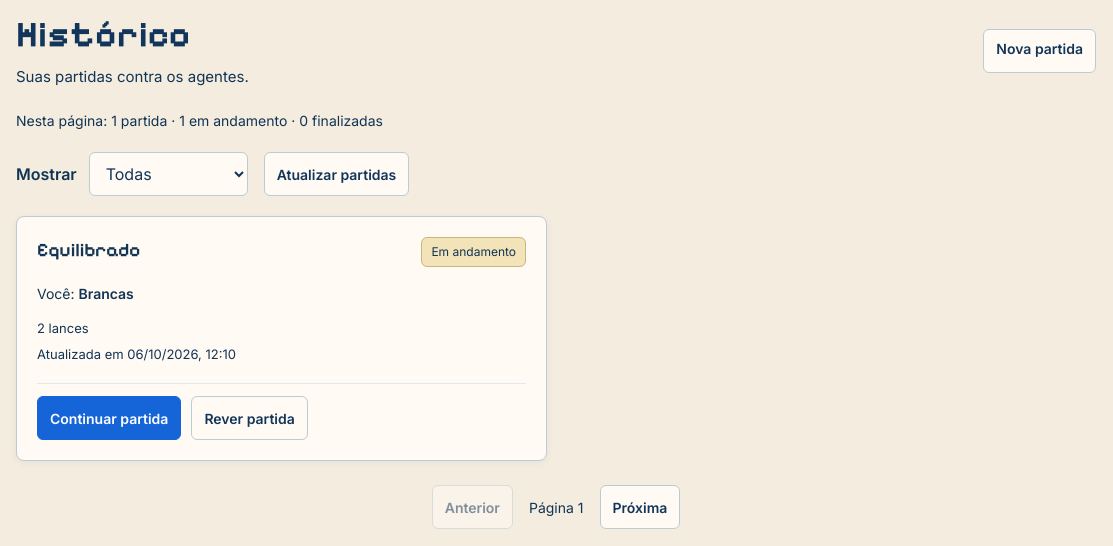
paginação substitui a página, mantém filtro e remove duplicatas sem reordenar
Expected: the heading "Equilibrado" is shown, top-left (37, 239), bottom-right (140, 261)
Select "Em andamento" in the dropdown at (168, 174), box top-left (89, 152), bottom-right (248, 196)
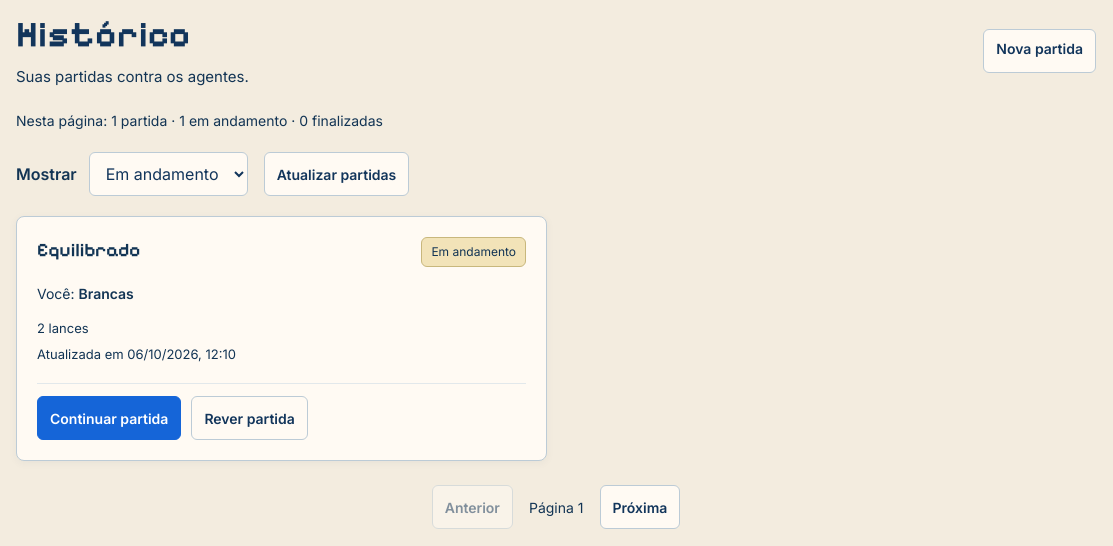
Click the button "Próxima" at (640, 507), box top-left (600, 485), bottom-right (680, 529)
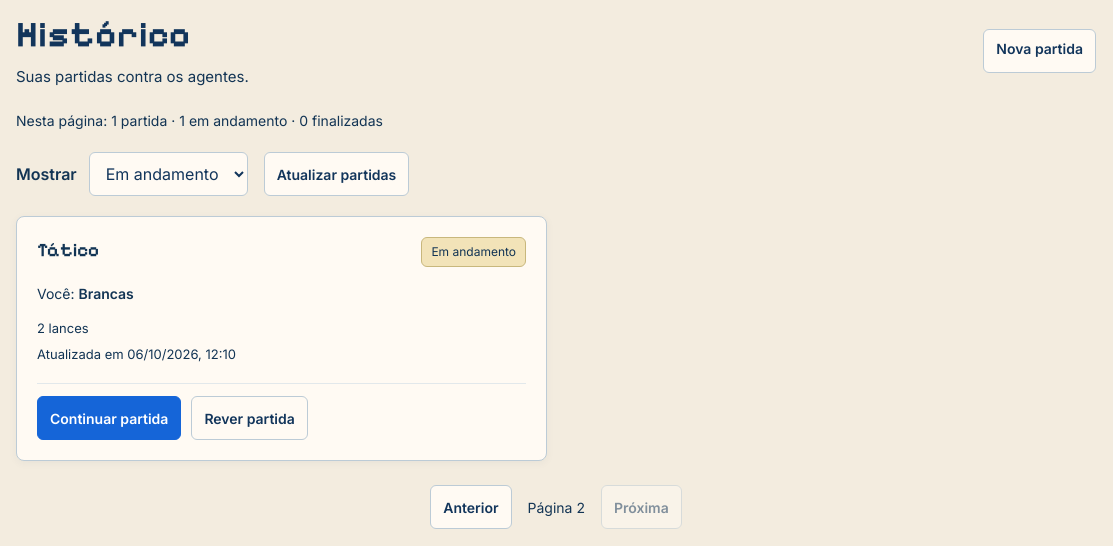
Expected: the heading "Tático" is shown, top-left (37, 239), bottom-right (99, 261)
Expected: the heading "Equilibrado" is gone
Expected: the button "Próxima" is disabled, top-left (601, 485), bottom-right (682, 529)
Click the button "Anterior" at (471, 507), box top-left (430, 485), bottom-right (512, 529)
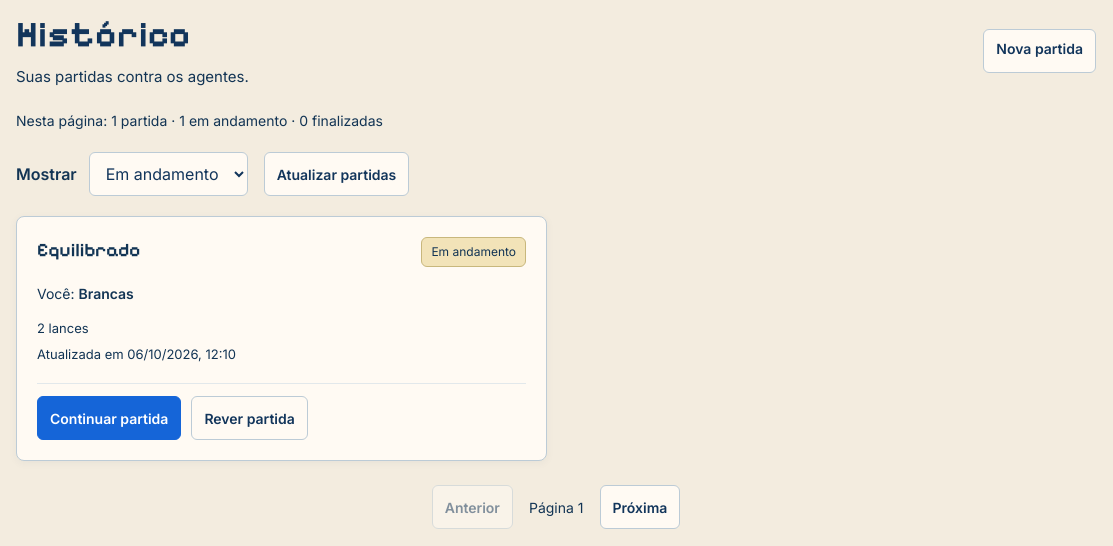
Expected: the heading "Equilibrado" is shown, top-left (37, 239), bottom-right (140, 261)
